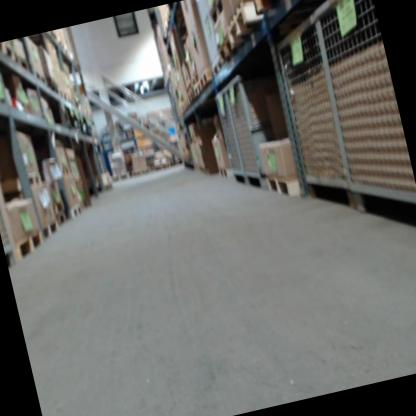pallet: (223, 0, 265, 52), (10, 227, 48, 263), (265, 172, 303, 201), (253, 0, 300, 16), (215, 36, 236, 66), (206, 0, 228, 26), (0, 40, 18, 66), (197, 67, 215, 91), (39, 219, 60, 239), (13, 52, 30, 75), (33, 68, 49, 89), (192, 79, 206, 100), (68, 202, 84, 219), (110, 171, 132, 183), (130, 165, 151, 177), (25, 174, 42, 188), (217, 165, 234, 179), (211, 60, 224, 76), (153, 162, 173, 171), (187, 90, 197, 105)
stillage: (307, 0, 416, 249), (258, 4, 363, 218), (222, 64, 300, 199), (210, 86, 249, 191), (0, 184, 20, 272)
